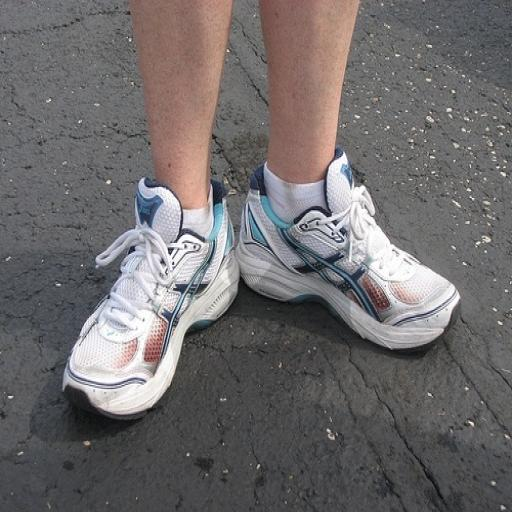shoe: (235, 149, 460, 349), (62, 179, 240, 419)
